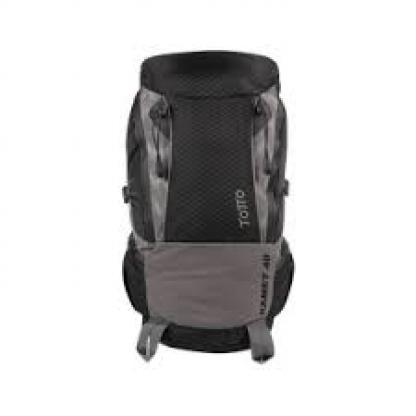morral: (102, 37, 322, 368)
